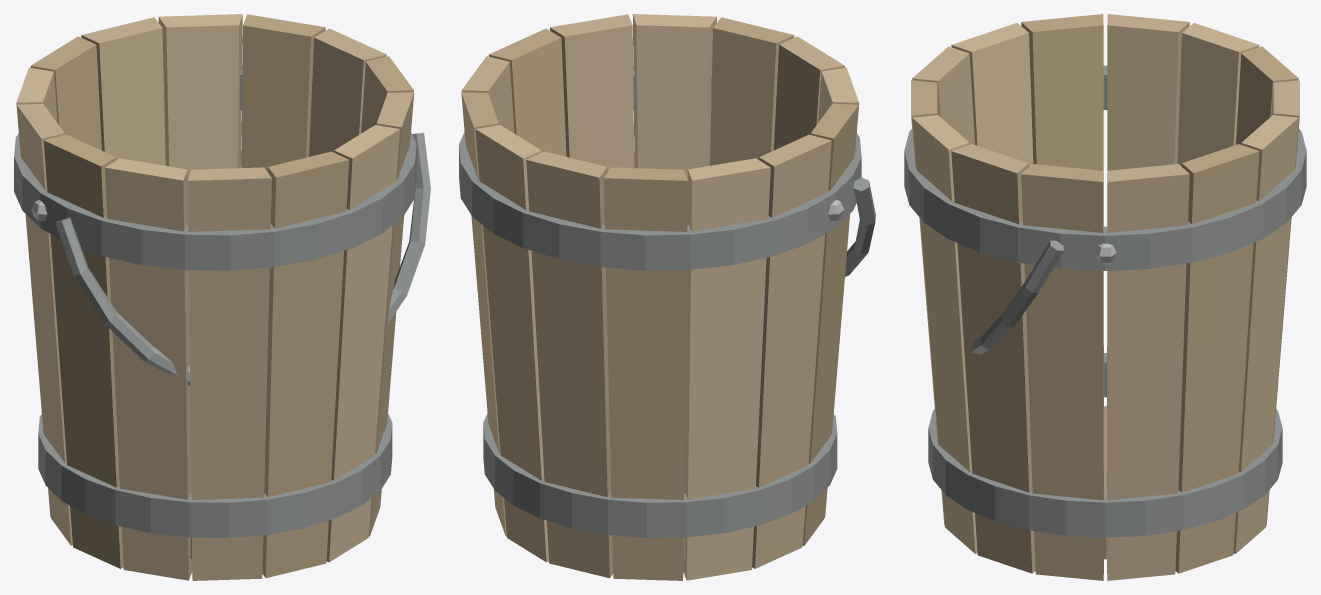
Rendered from bucket.glb.
3 renders of one model, left to right at view 1: azimuth 30°, elevation 25°; view 2: azimuth 150°, elevation 25°; view 3: azimuth 270°, elevation 25°, orthographic.
Parts seen in each view (by area): view 1: Stave_09, Stave_08, Stave_10, Stave_07, Upper_Iron_Hoop, Stave_11, Lower_Iron_Hoop, Stave_02, Stave_01, Stave_03, Stave_06, Stave_00 (+5 smaller); view 2: Stave_04, Stave_05, Stave_03, Stave_06, Upper_Iron_Hoop, Stave_02, Lower_Iron_Hoop, Stave_11, Stave_12, Stave_10, Stave_07, Stave_13 (+5 smaller); view 3: Stave_00, Stave_13, Stave_01, Stave_12, Upper_Iron_Hoop, Lower_Iron_Hoop, Stave_02, Stave_11, Stave_06, Stave_07, Stave_05, Stave_08 (+5 smaller).
Part boxes in pixels (x1,y1,x2,y2): Stave_09: (187, 167, 271, 580); Stave_08: (105, 158, 192, 580); Stave_10: (262, 151, 349, 577); Stave_07: (43, 134, 123, 568); Upper_Iron_Hoop: (14, 69, 416, 270); Stave_11: (326, 125, 399, 562); Lower_Iron_Hoop: (38, 413, 392, 537); Stave_02: (158, 14, 242, 180); Stave_01: (241, 14, 325, 171); Stave_03: (81, 17, 165, 165); Stave_06: (16, 103, 72, 545); Stave_00: (309, 28, 386, 156); Stave_04: (603, 167, 687, 580); Stave_05: (683, 158, 770, 580); Stave_03: (526, 151, 613, 578); Stave_06: (752, 134, 831, 568); Upper_Iron_Hoop: (459, 66, 861, 270); Stave_02: (475, 125, 548, 562); Lower_Iron_Hoop: (483, 413, 837, 537); Stave_11: (632, 14, 716, 179); Stave_12: (550, 14, 634, 171); Stave_10: (710, 17, 794, 165); Stave_07: (802, 103, 858, 545); Stave_13: (488, 28, 566, 156); Stave_00: (1107, 164, 1189, 580); Stave_13: (1021, 164, 1103, 580); Stave_01: (1175, 144, 1259, 573); Stave_12: (951, 144, 1035, 573); Upper_Iron_Hoop: (904, 65, 1306, 270); Lower_Iron_Hoop: (928, 353, 1282, 537); Stave_02: (1233, 115, 1298, 553); Stave_11: (912, 115, 977, 553); Stave_06: (1107, 14, 1189, 410); Stave_07: (1021, 14, 1103, 410); Stave_05: (1177, 23, 1259, 166); Stave_08: (951, 23, 1033, 166).
Size of the model in its own units: 0.0876 by 0.094 by 0.083.
